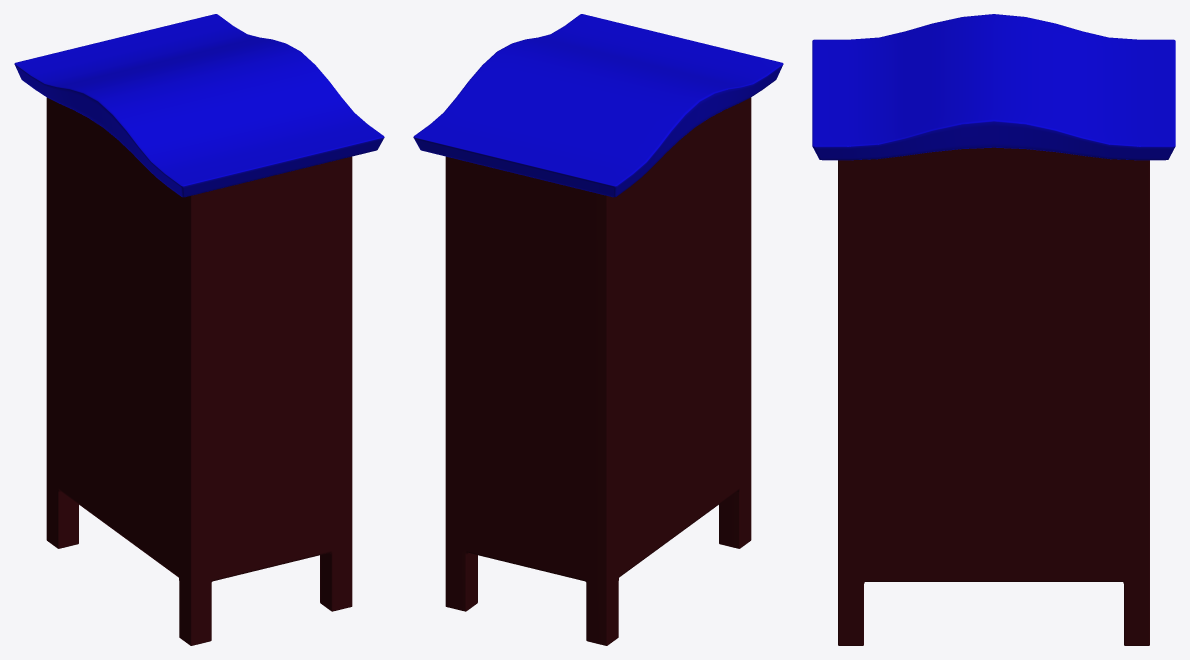
File: Amoire_Toy.fbx
The picture shows the model from 3 angles, left to right: view 1: azimuth 30°, elevation 25°; view 2: azimuth 150°, elevation 25°; view 3: azimuth 270°, elevation 25°; orthographic projection. The views are drawn at different scales.
Visible parts, largest first — view 1: Wardrobe; view 2: Wardrobe; view 3: Wardrobe.
Part boxes in pixels (box(x1,y1,x2,y2)): Wardrobe: box(14, 14, 384, 645); Wardrobe: box(413, 14, 783, 645); Wardrobe: box(812, 14, 1175, 645).
Size of the model in its own units: 87.3 by 204 by 125.
